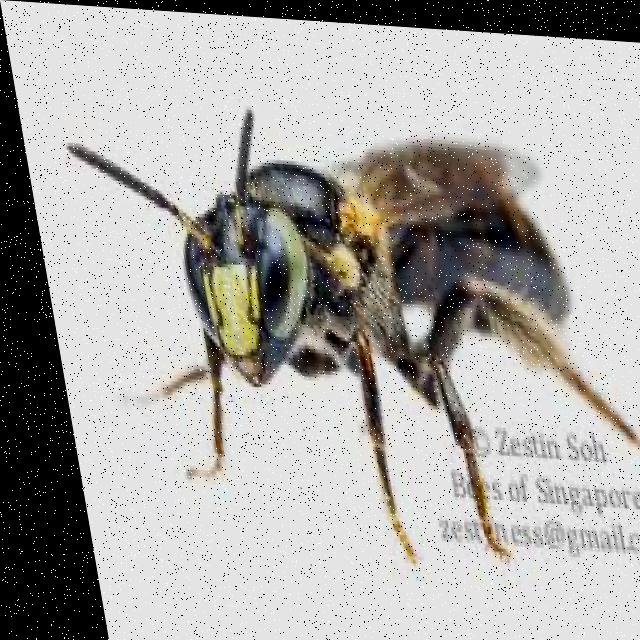Braunsapis: (44, 70, 640, 610)
